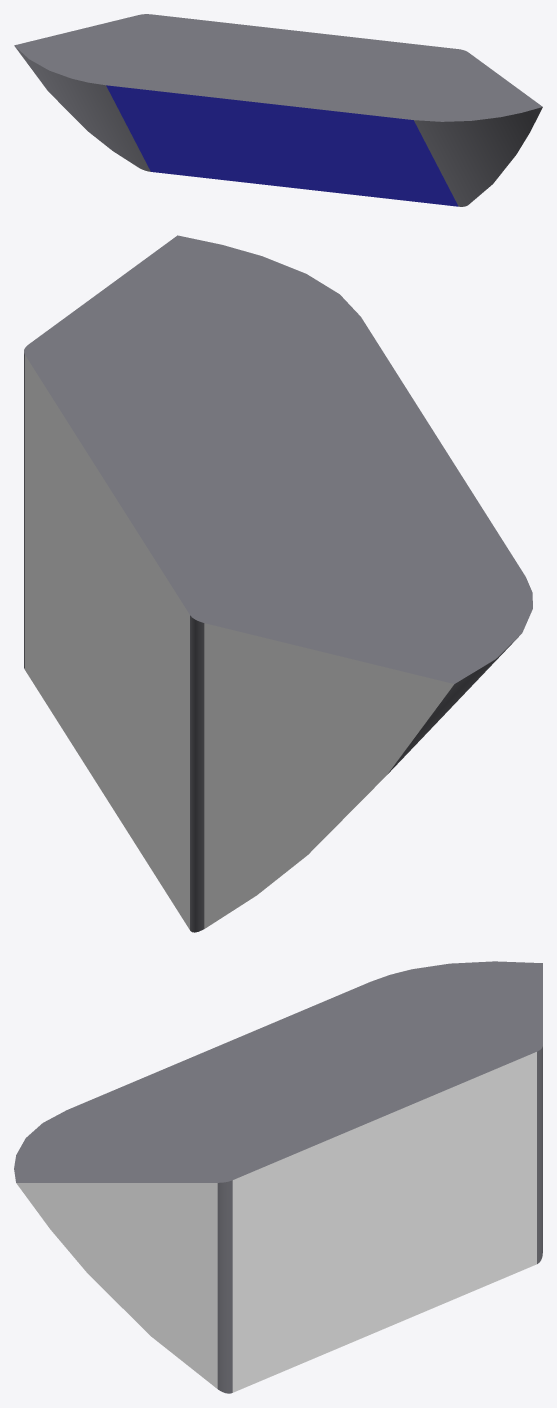
The model's file is screen_for_box_rooms.glb.
3 views of the same model, one above another, from view 1: azimuth 30°, elevation 25°; view 2: azimuth 150°, elevation 25°; view 3: azimuth 270°, elevation 25° (orthographic). The views are drawn at different scales.
Parts seen in each view (by area): view 1: root; view 2: root; view 3: root.
Boxes of the visible parts, <box> form: root: <box>14,14,542,206</box>; root: <box>24,235,532,932</box>; root: <box>14,961,542,1393</box>.
Bounding box in the file's own units: 2.5 × 1.12 × 2.52.
